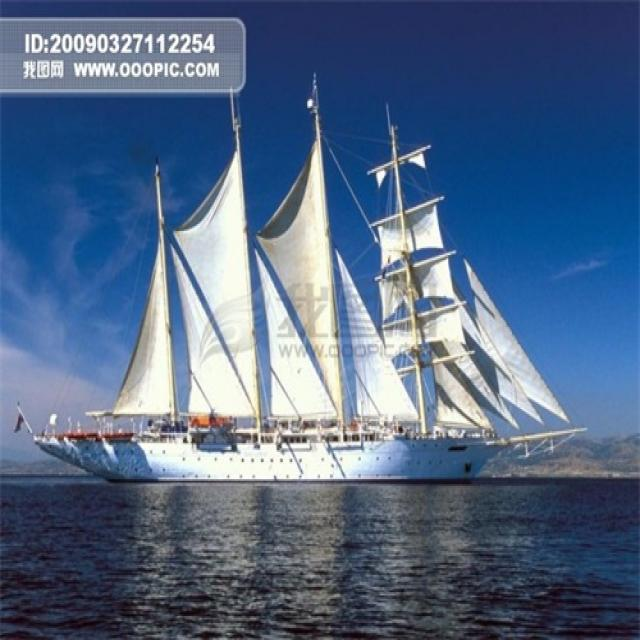Ship: (33, 80, 581, 486)
